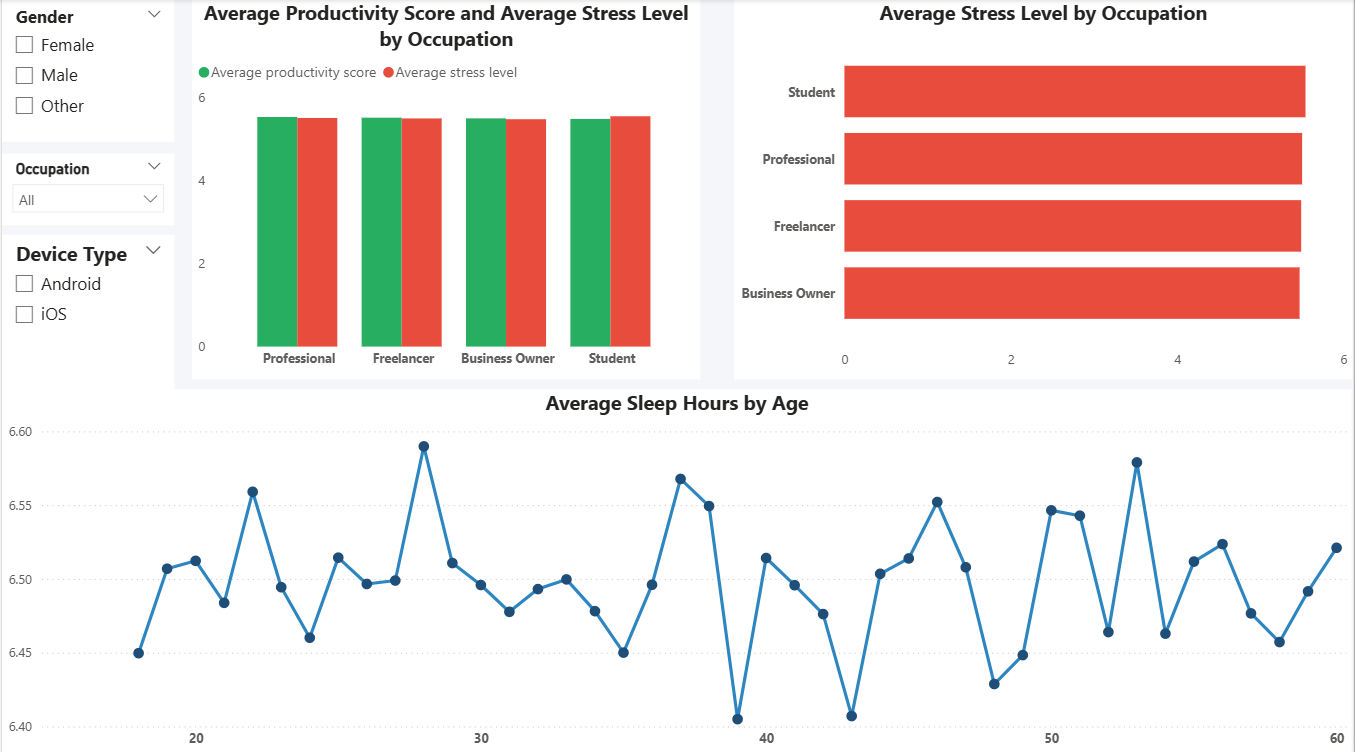

The dashboard page shown, as its layout file describes it:
{"tool":"powerbi","page":{"name":"Page 2","canvas":[1280,720],"ordinal":1},"visuals":[{"type":"clusteredColumnChart","title":"Average Productivity Score and Average Stress Level by Occupation","fields":{"Category":["Smartphone Usage Data.Occupation"],"Y":["Smartphone Usage Data.Average productivity score","Smartphone Usage Data.Average stress level"]},"box":[179.4,0,481.8,360.3],"z":0},{"type":"lineChart","title":"Average Sleep Hours by Age","fields":{"Y":["Smartphone Usage Data.Average sleep hours"],"Category":["Smartphone Usage Data.Age"]},"box":[0,370,1279,350],"z":1000},{"type":"barChart","title":"Average Stress Level by Occupation","fields":{"Category":["Smartphone Usage Data.Occupation"],"Y":["Smartphone Usage Data.Average stress level"]},"box":[693.8,0,585.6,360.3],"z":2000},{"type":"slicer","fields":{"Values":["Smartphone Usage Data.Gender"]},"box":[0,0,163.1,134.9],"z":2001},{"type":"slicer","fields":{"Values":["Smartphone Usage Data.Occupation"]},"box":[0,146.8,163.1,68.2],"z":2002},{"type":"slicer","fields":{"Values":["Smartphone Usage Data.Device Type"]},"box":[0,223.9,163.1,146.8],"z":2003}]}

Visuals, with their boxes in screenshot pixels (x1, y1, x2, y2), scaled from the page's 1280x720 canvas onto the 1355x752 screenshot:
"Average Productivity Score and Average Stress Level by Occupation" clusteredColumnChart: box=[190, 0, 700, 376]
"Average Sleep Hours by Age" lineChart: box=[0, 386, 1354, 751]
"Average Stress Level by Occupation" barChart: box=[734, 0, 1354, 376]
slicer - Smartphone Usage Data.Gender: box=[0, 0, 173, 141]
slicer - Smartphone Usage Data.Occupation: box=[0, 153, 173, 225]
slicer - Smartphone Usage Data.Device Type: box=[0, 234, 173, 387]
